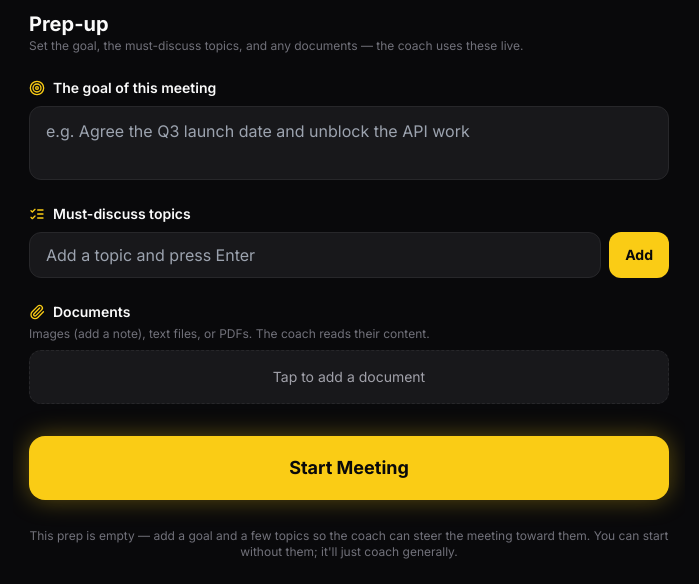
Scenario: MeetingPrepUp › adds a topic and autosaves it (PATCH with the topic)
Expected: the text "Must-discuss topics" is shown, [29,205,191,222]
Type "pricing" into the field with placeholder "Add a topic and press Enter" at (315, 255), box [29,232,601,278]
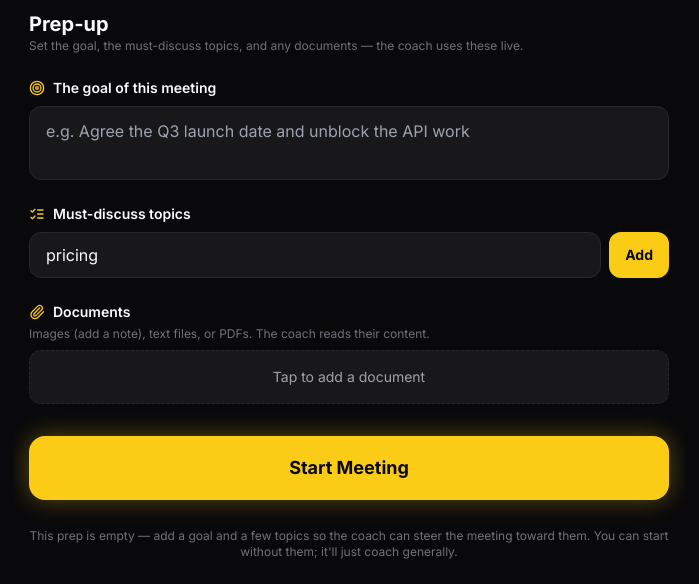
Click the button "Add" at (639, 255), box [609,232,669,278]
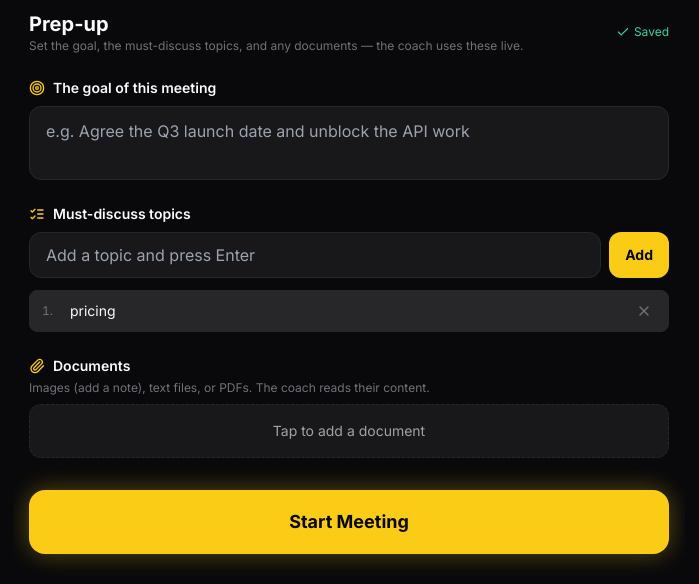
Result: the text "pricing" is shown at [70,302,116,319]
